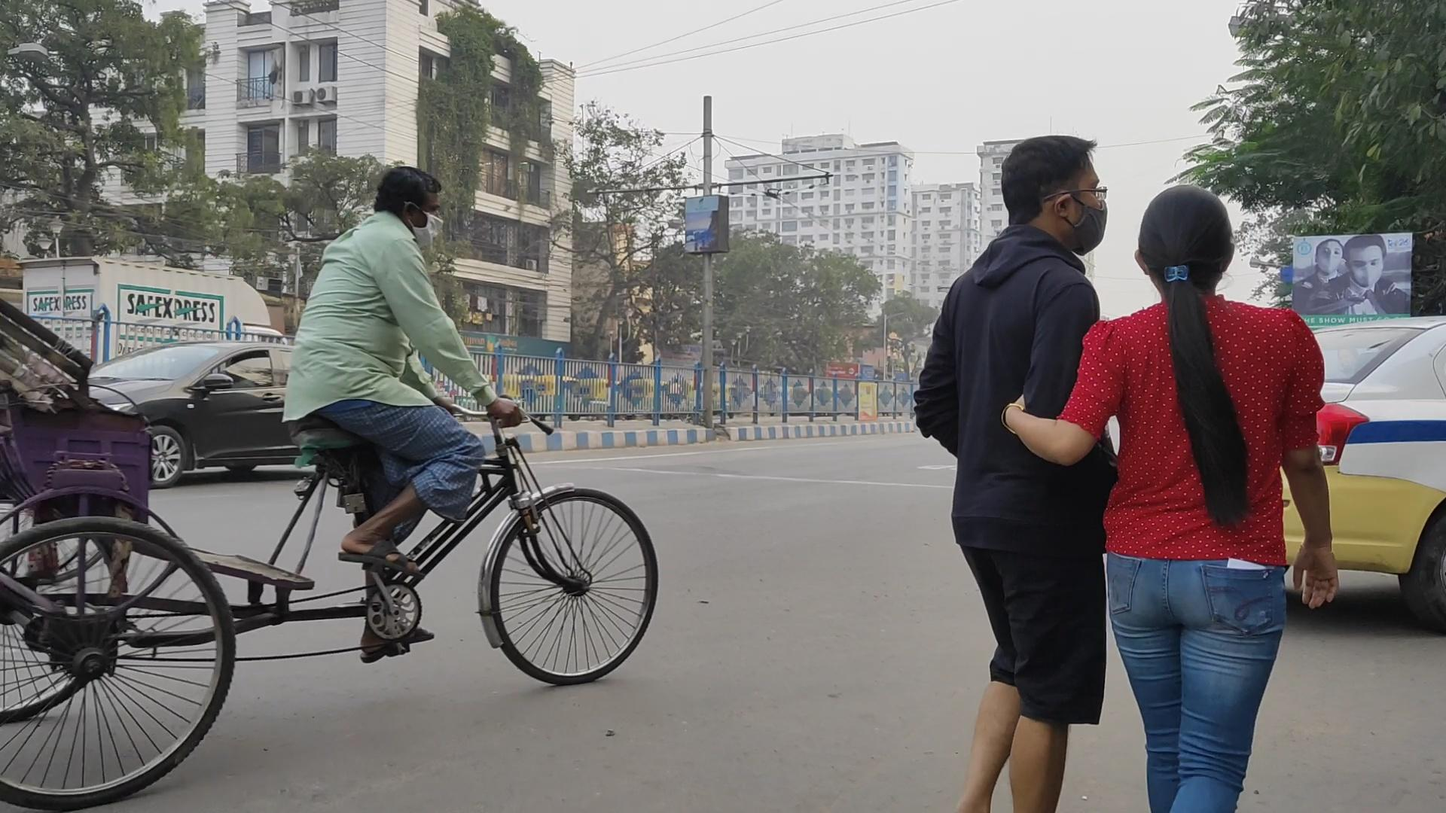car: (20, 340, 389, 488)
